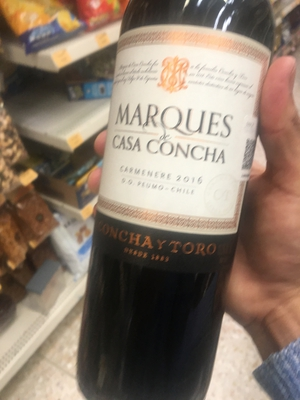marques de casa concha carmenere: (90, 2, 269, 388)
